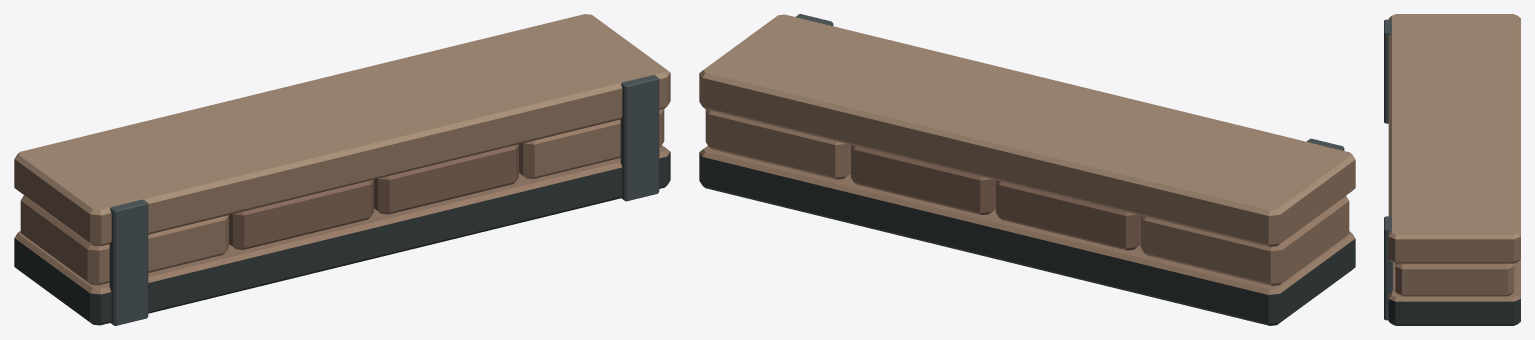
Rendered from wall-low.glb.
The picture shows the model from 3 angles, left to right: view 1: azimuth 30°, elevation 25°; view 2: azimuth 150°, elevation 25°; view 3: azimuth 270°, elevation 25°; orthographic projection. The views are drawn at different scales.
Visible parts, largest first — view 1: wall-low__body; view 2: wall-low__body; view 3: wall-low__body.
Part boxes in pixels (x1=…): wall-low__body: x1=14, y1=14, x2=670, y2=325; wall-low__body: x1=699, y1=14, x2=1355, y2=325; wall-low__body: x1=1384, y1=14, x2=1520, y2=325.
Bounding box in the file's own units: 2 × 0.38 × 0.5175.
